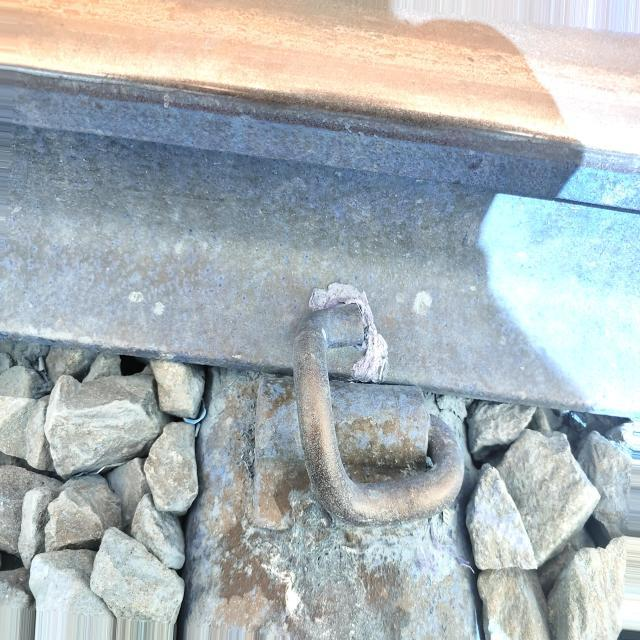Good Fasteners: (222, 275, 494, 570)
